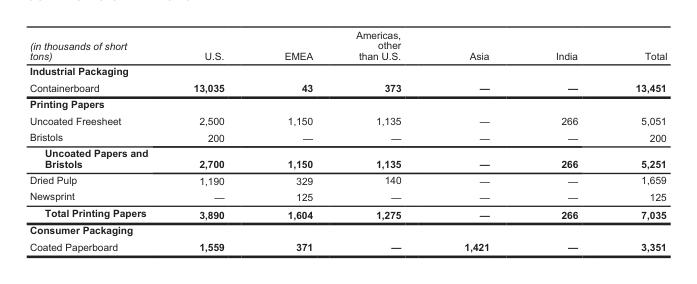table: (28, 29, 666, 252)
table column: (28, 29, 170, 252), (333, 29, 432, 252), (432, 29, 521, 252), (521, 29, 605, 252), (170, 29, 253, 252), (253, 29, 333, 252), (605, 29, 666, 252)
table column header: (28, 29, 666, 62)
table projected row header: (28, 62, 666, 79), (28, 95, 666, 111), (28, 222, 666, 238)
table row: (28, 29, 666, 62), (28, 145, 666, 171), (28, 204, 666, 222), (28, 62, 666, 79), (28, 111, 666, 128), (28, 128, 666, 145), (28, 187, 666, 204), (28, 79, 666, 95), (28, 95, 666, 111), (28, 171, 666, 187), (28, 222, 666, 238), (28, 238, 666, 252)
